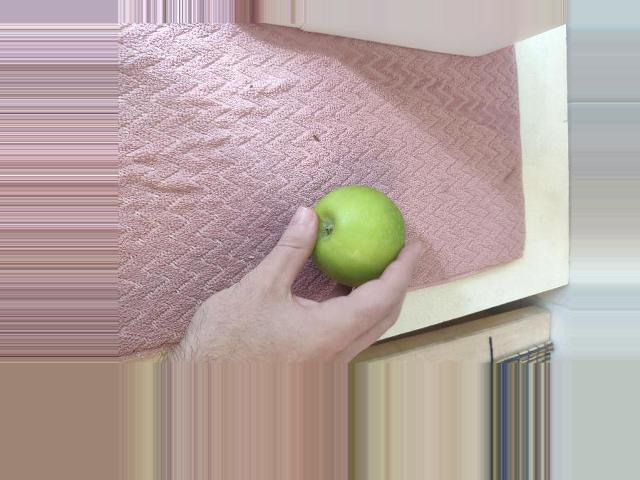apple: (304, 170, 418, 282)
